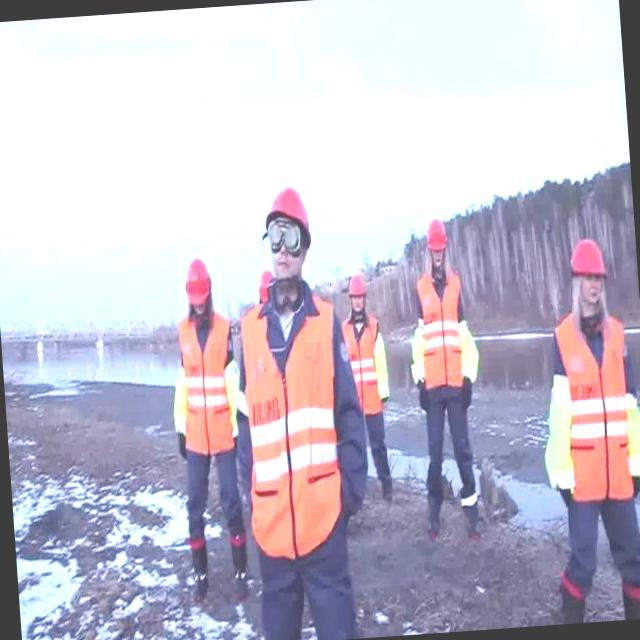helmet: (264, 186, 310, 238), (564, 234, 605, 278), (184, 256, 212, 306), (425, 219, 448, 250), (256, 270, 274, 304), (344, 276, 367, 297)
vest: (237, 291, 350, 563), (550, 307, 638, 503), (176, 304, 238, 454), (416, 266, 470, 388), (339, 311, 386, 416)
